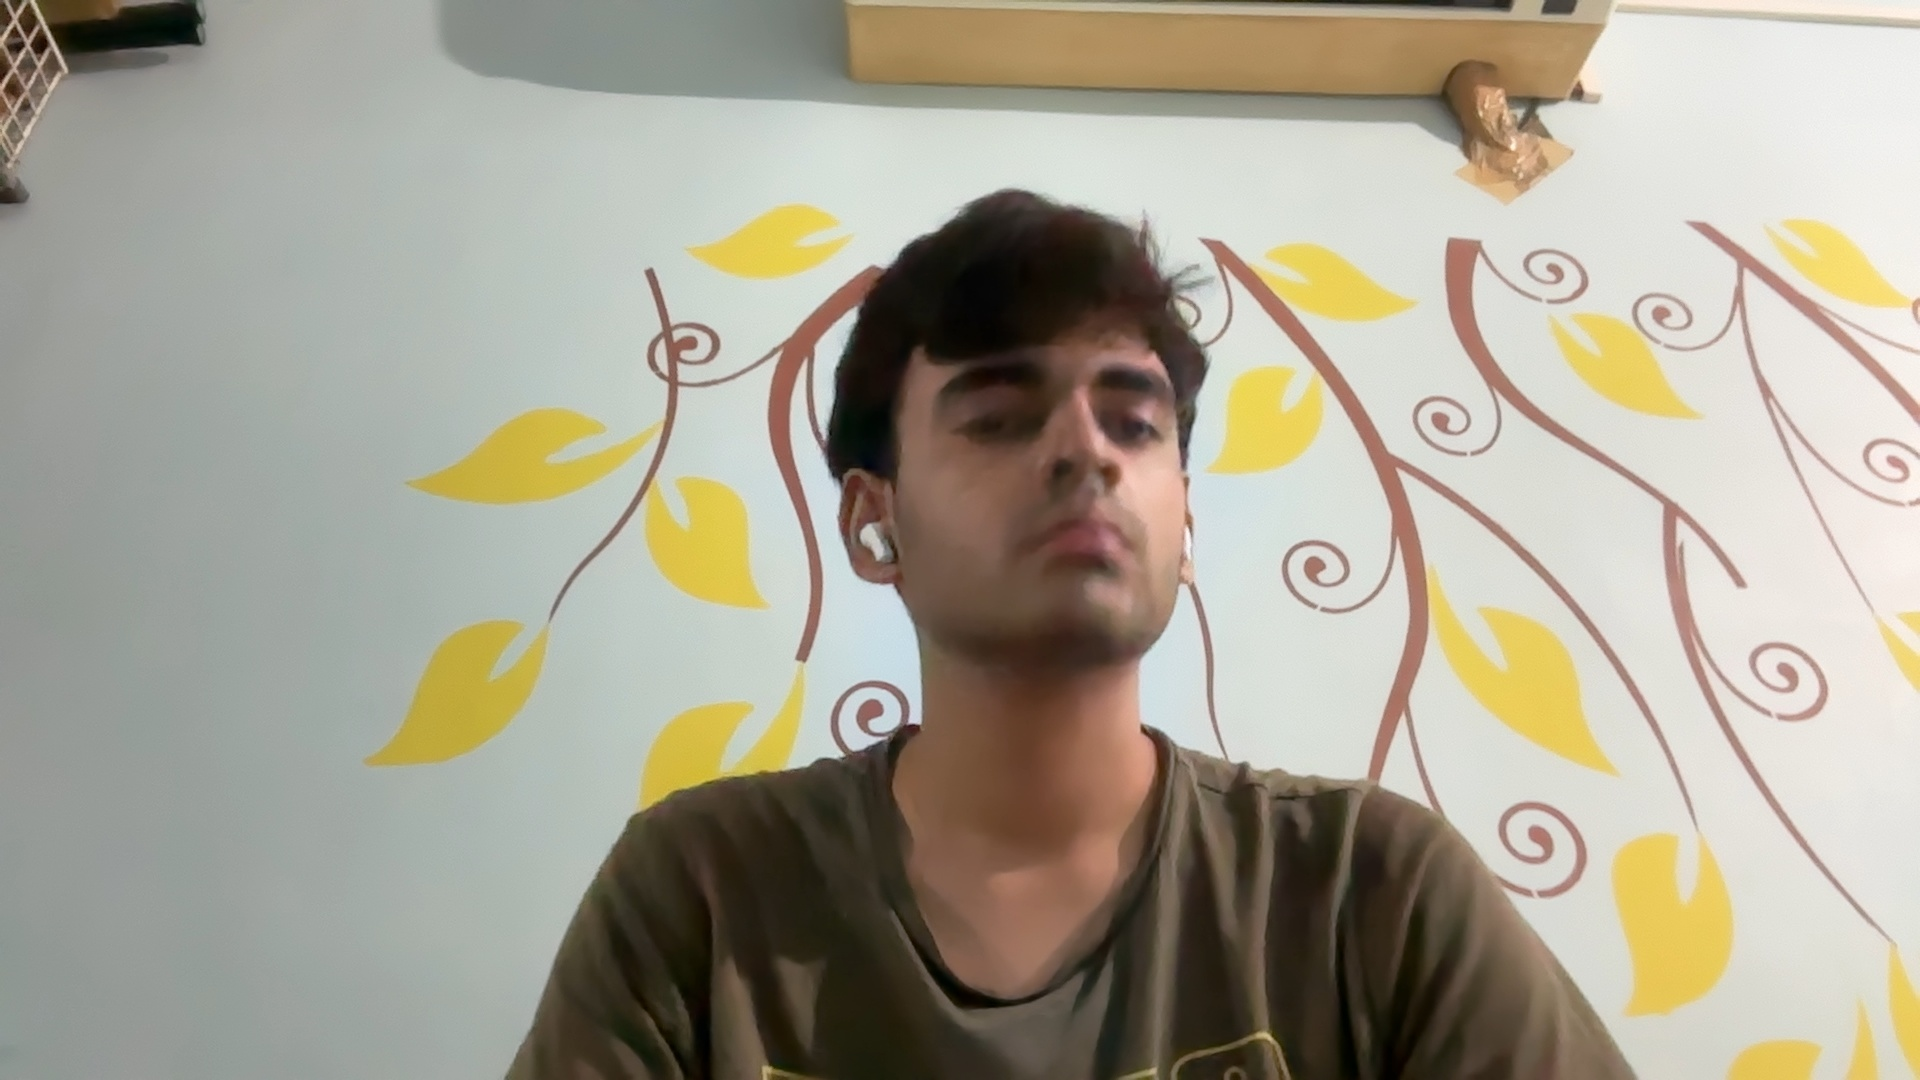No Mask: (895, 451, 1224, 658)
